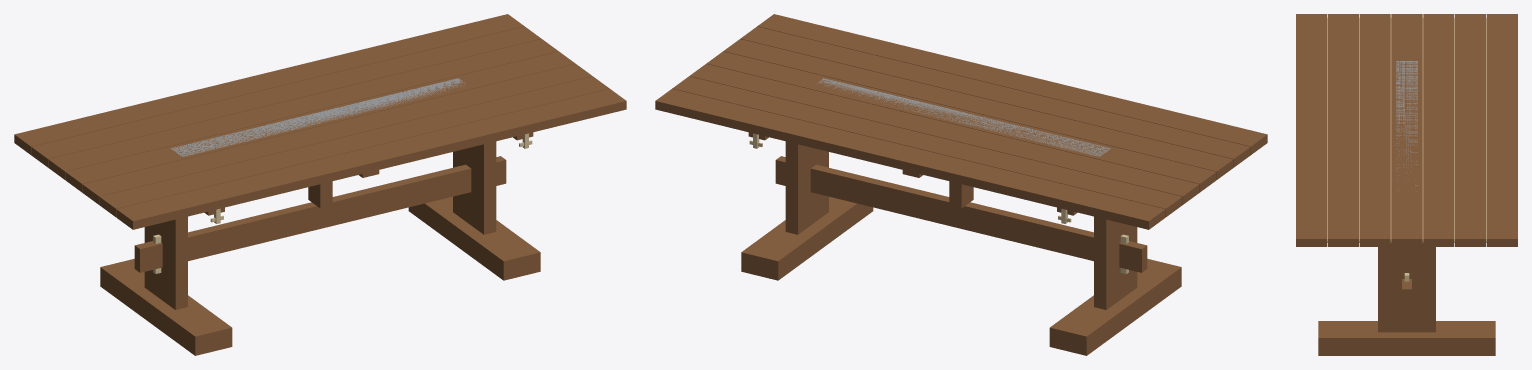
3 views of the same model, side by side, from view 1: azimuth 30°, elevation 25°; view 2: azimuth 150°, elevation 25°; view 3: azimuth 270°, elevation 25° (orthographic). The views are drawn at different scales.
Visible parts, largest first — view 1: tabla_1, travesaño, tabla_7, tabla_2, tabla_3, tabla_6, tabla_5, tabla_4_(de_servicio), pie_izq, pie_der, mármol_asentado, montante_der (+2 smaller); view 2: tabla_7, travesaño, tabla_1, tabla_2, tabla_5, tabla_6, tabla_3, tabla_4_(de_servicio), pie_izq, pie_der, montante_der, montante_izq (+2 smaller); view 3: tabla_1, tabla_3, tabla_5, tabla_7, tabla_4_(de_servicio), tabla_2, tabla_6, pie_der, montante_der, mármol_asentado, lengüeta_3, lengüeta_4 (+5 smaller).
Part boxes in pixels (x1=…): tabla_1: x1=116, y1=89, x2=626, y2=229; travesaño: x1=134, y1=156, x2=506, y2=272; tabla_7: x1=14, y1=14, x2=524, y2=154; tabla_2: x1=99, y1=76, x2=609, y2=216; tabla_3: x1=82, y1=64, x2=592, y2=204; tabla_6: x1=31, y1=26, x2=541, y2=167; tabla_5: x1=48, y1=39, x2=558, y2=179; tabla_4_(de_servicio): x1=65, y1=51, x2=575, y2=192; pie_izq: x1=100, y1=258, x2=232, y2=355; pie_der: x1=408, y1=196, x2=540, y2=280; mármol_asentado: x1=171, y1=78, x2=465, y2=156; montante_der: x1=453, y1=141, x2=496, y2=234; tabla_7: x1=655, y1=89, x2=1165, y2=229; travesaño: x1=775, y1=156, x2=1147, y2=272; tabla_1: x1=757, y1=14, x2=1267, y2=154; tabla_2: x1=740, y1=26, x2=1250, y2=167; tabla_5: x1=689, y1=64, x2=1199, y2=204; tabla_6: x1=672, y1=76, x2=1182, y2=216; tabla_3: x1=723, y1=39, x2=1233, y2=179; tabla_4_(de_servicio): x1=706, y1=51, x2=1216, y2=192; pie_izq: x1=1049, y1=258, x2=1181, y2=355; pie_der: x1=741, y1=196, x2=873, y2=280; montante_der: x1=785, y1=141, x2=828, y2=234; montante_izq: x1=1094, y1=216, x2=1137, y2=309; tabla_1: x1=1296, y1=14, x2=1327, y2=246; tabla_3: x1=1359, y1=14, x2=1390, y2=246; tabla_5: x1=1423, y1=14, x2=1454, y2=246; tabla_7: x1=1486, y1=14, x2=1517, y2=246; tabla_4_(de_servicio): x1=1391, y1=14, x2=1422, y2=246; tabla_2: x1=1328, y1=14, x2=1358, y2=246; tabla_6: x1=1455, y1=14, x2=1485, y2=246; pie_der: x1=1318, y1=321, x2=1495, y2=355; montante_der: x1=1378, y1=243, x2=1435, y2=332; mármol_asentado: x1=1396, y1=61, x2=1417, y2=191; lengüeta_3: x1=1390, y1=18, x2=1391, y2=242; lengüeta_4: x1=1422, y1=18, x2=1423, y2=242.
Size of the model in its own units: 2.4 by 0.75 by 1.
